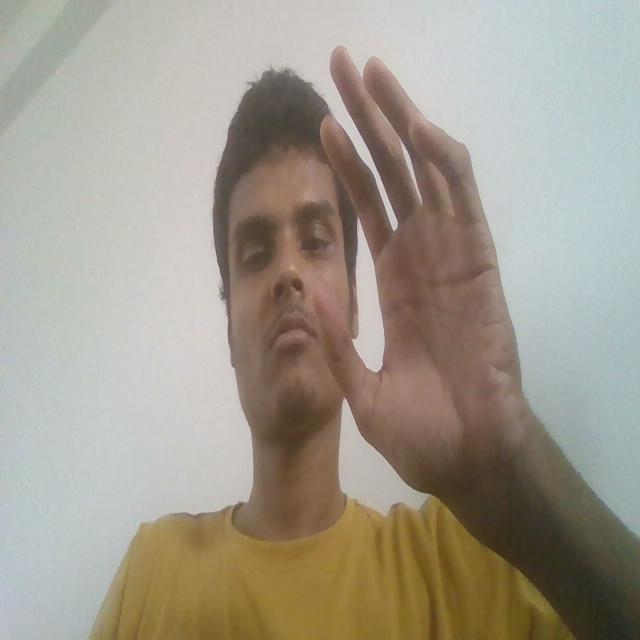Hello: (295, 33, 548, 596)
